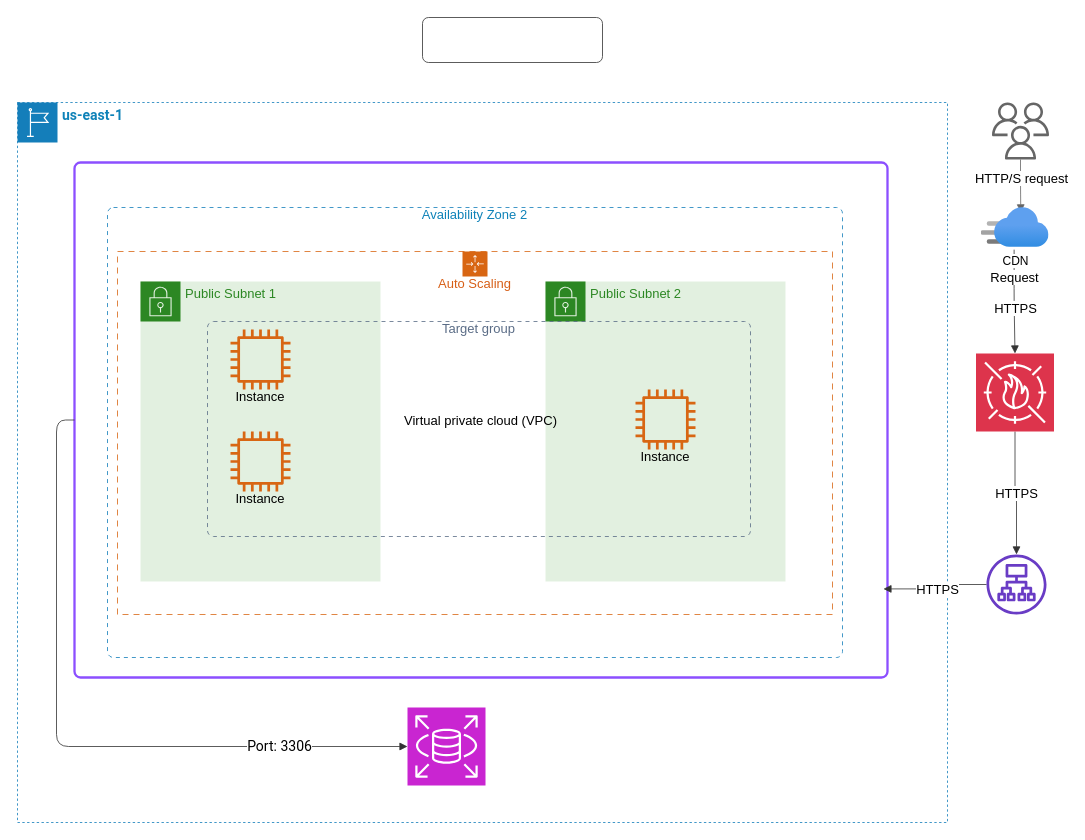
This 1085x840 diagram has some shape labels left out. The shapes that lost their labels are listed below. From the top down, each one's centre as x and y in pixels, then its label:
At point 512,39: "ALB AWS".
At point 1014,392: "AWS WAF".
At point 1016,584: "Application Load Balancer".
At point 446,746: "RDS MYSQL".
